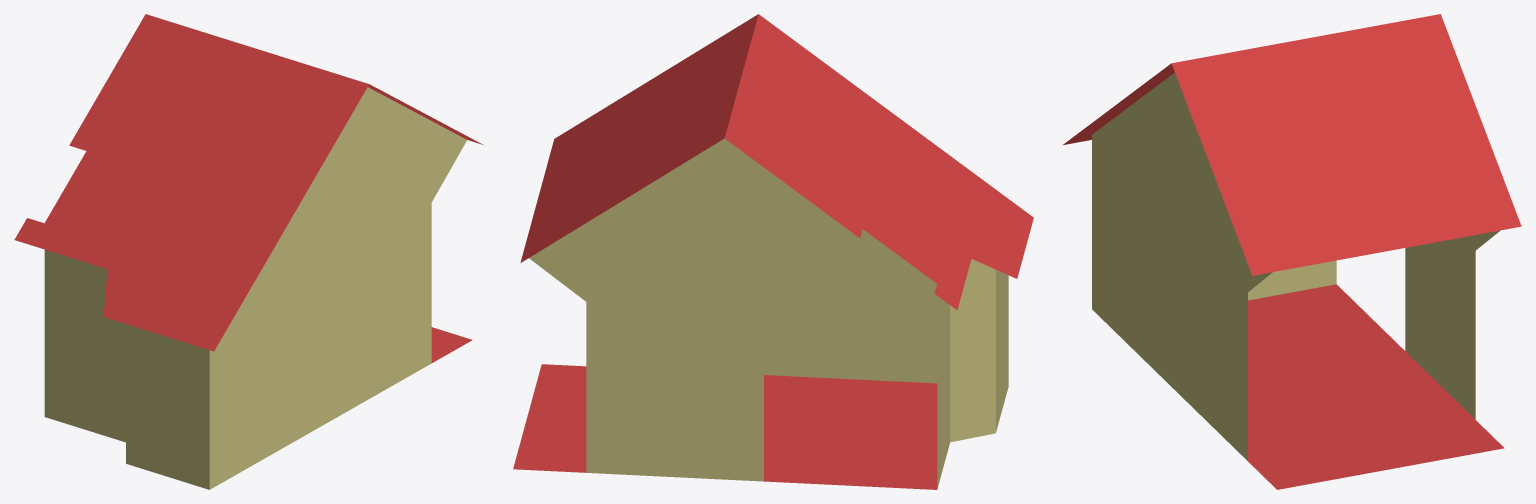
The picture shows the model from 3 angles, left to right: view 1: azimuth 30°, elevation 25°; view 2: azimuth 150°, elevation 25°; view 3: azimuth 270°, elevation 25°; orthographic projection. The views are drawn at different scales.
Size of the model in its own units: 17.04 by 15.15 by 12.65.
